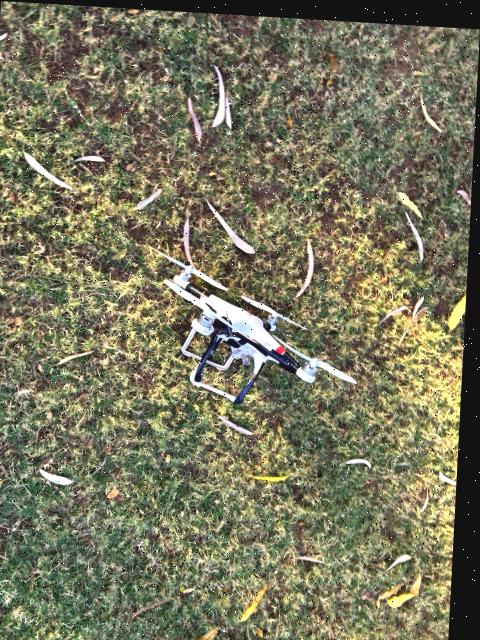drone: (111, 210, 407, 449)
